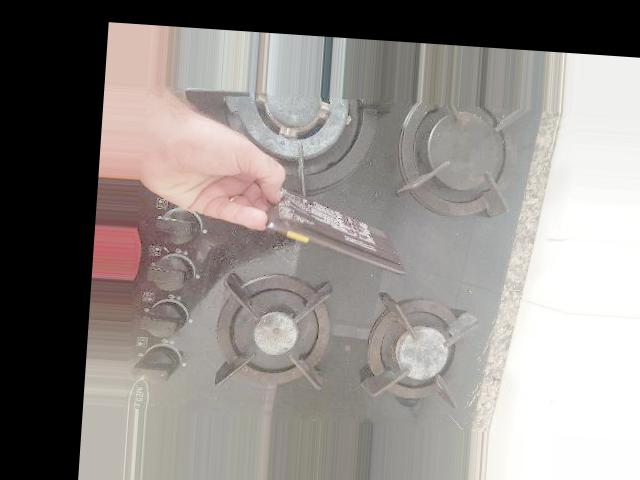chocolate: (249, 182, 411, 278)
